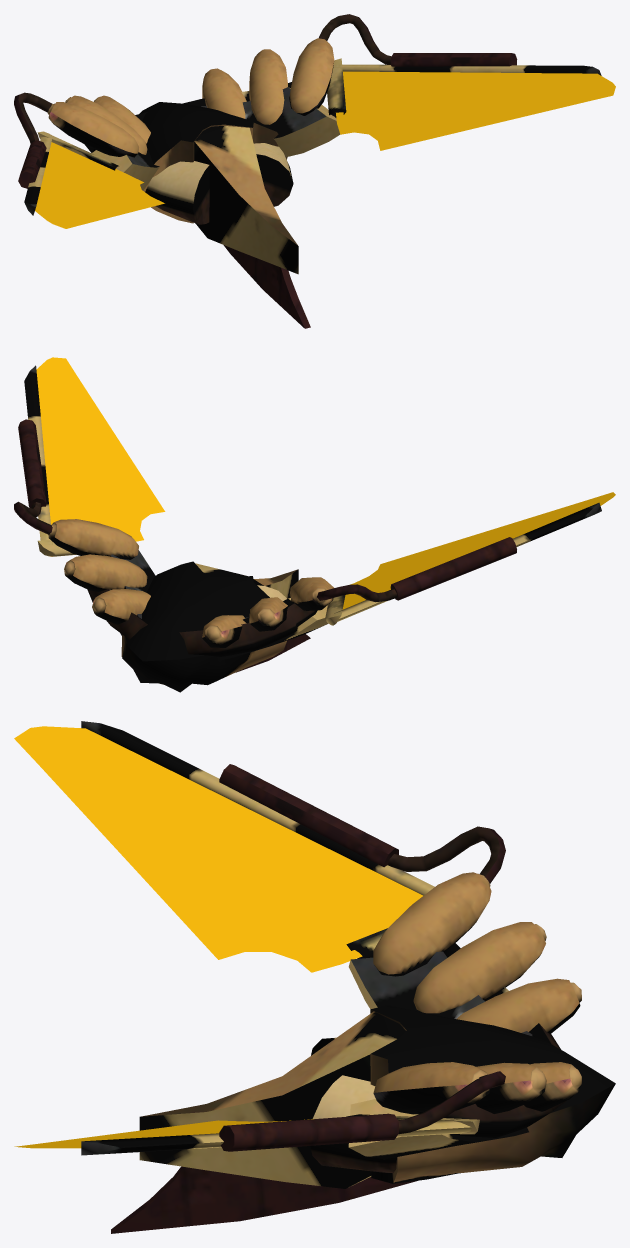
The model's file is ship19b.fbx.
3 views of the same model, one above another, from view 1: azimuth 30°, elevation 25°; view 2: azimuth 150°, elevation 25°; view 3: azimuth 270°, elevation 25° (orthographic). The views are drawn at different scales.
Visible parts, largest first — view 1: PipelineFBX1, PipelineFBX0; view 2: PipelineFBX1, PipelineFBX0; view 3: PipelineFBX1, PipelineFBX0.
Boxes of the visible parts, x1,y1,x2,y2 form: PipelineFBX1: (14, 14, 601, 328); PipelineFBX0: (35, 71, 615, 228); PipelineFBX1: (14, 365, 601, 692); PipelineFBX0: (36, 357, 615, 609); PipelineFBX1: (81, 721, 615, 1233); PipelineFBX0: (14, 726, 423, 1148).
Bounding box in the file's own units: 36194 × 11949 × 21695.
